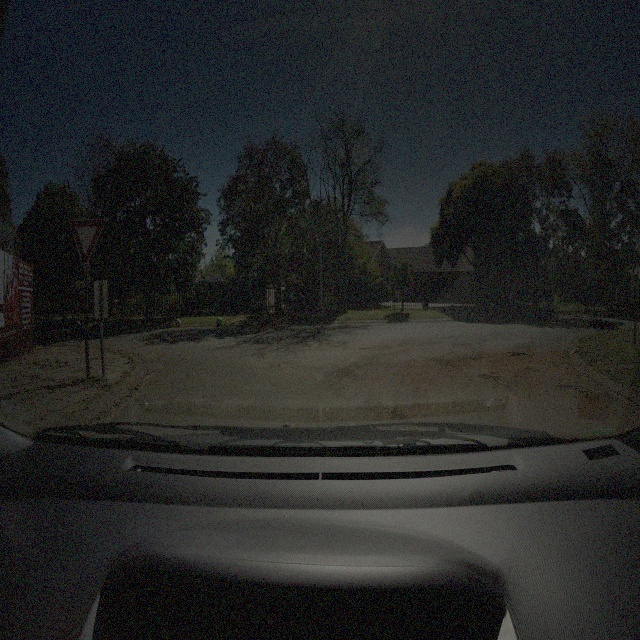pothole: (554, 382, 590, 397), (506, 349, 532, 361), (476, 371, 500, 384), (466, 356, 482, 364), (526, 365, 540, 374), (357, 344, 372, 352), (452, 341, 470, 347)
